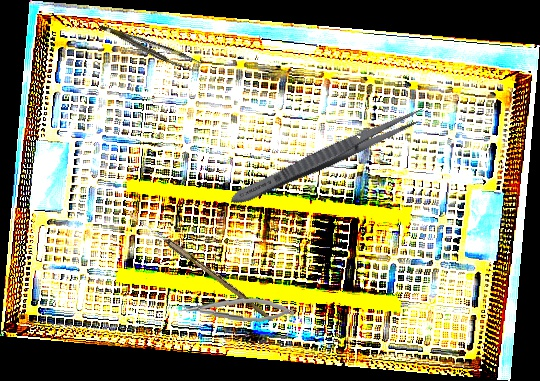Dressing Forceps: (226, 101, 429, 212)
Needle Holder: (177, 292, 295, 326)
Surgical Spoon: (126, 210, 276, 322)
Tissue Forceps: (99, 12, 202, 79)
